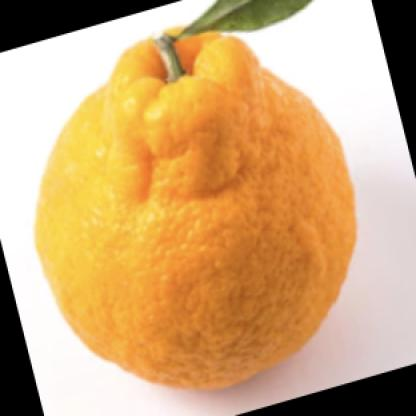fresh: (36, 30, 357, 392)
